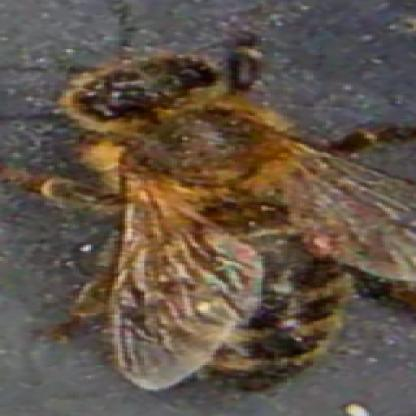bee: (37, 54, 359, 383)
